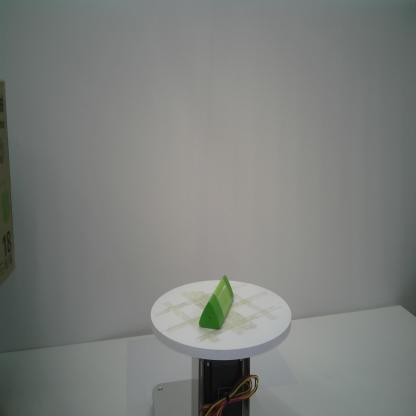Stationery: (198, 272, 236, 330)
